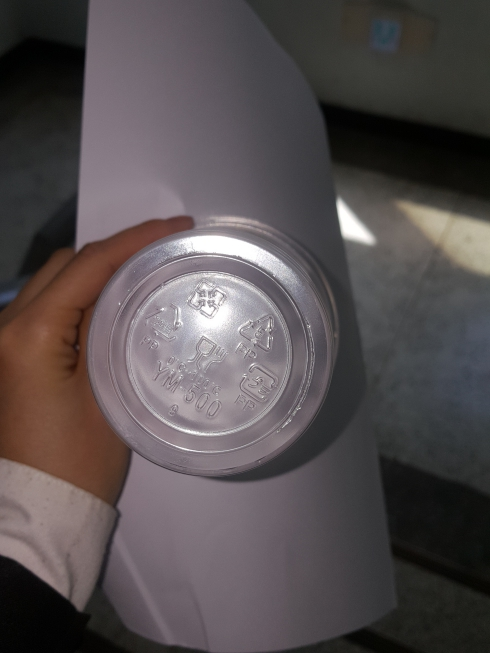recycle: (234, 301, 280, 362)
